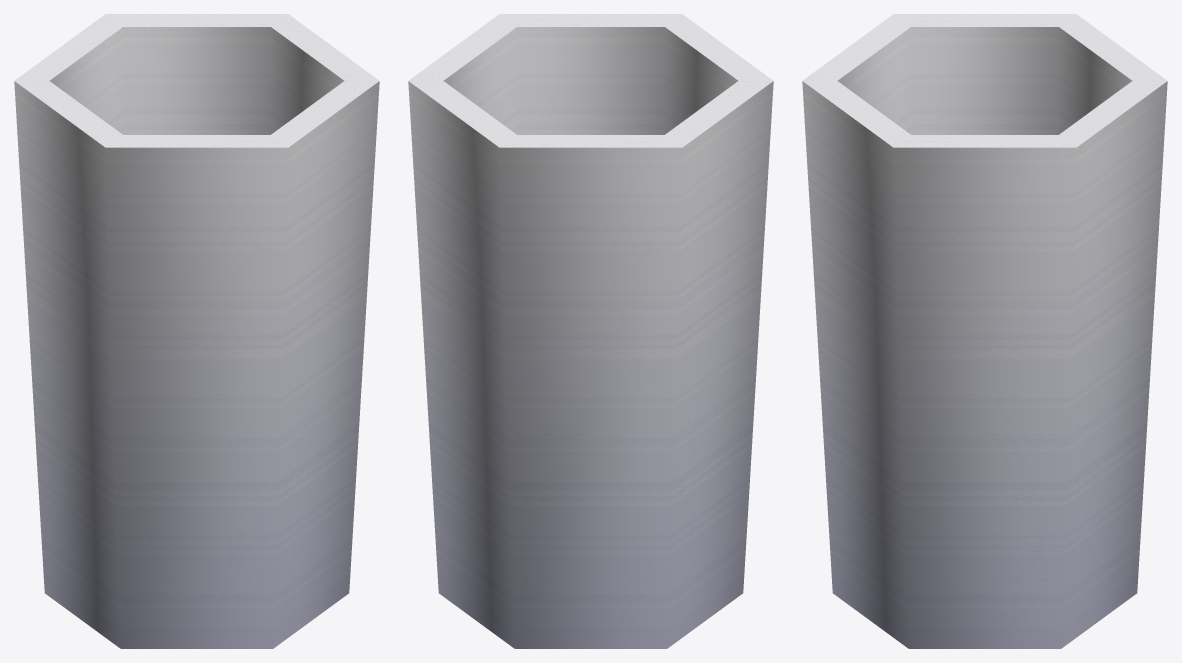
The model's file is glass.glb.
The picture shows the model from 3 angles, left to right: view 1: azimuth 30°, elevation 25°; view 2: azimuth 150°, elevation 25°; view 3: azimuth 270°, elevation 25°; orthographic projection.
Visible parts, largest first — view 1: glass; view 2: glass; view 3: glass.
Part boxes in pixels (x1,y1,x2,y2): glass: (14, 14, 379, 648); glass: (408, 14, 773, 648); glass: (802, 14, 1167, 648).
Bounding box in the file's own units: 0.1596 × 0.2851 × 0.1843.
Materials: 1 (1 with a texture image).
